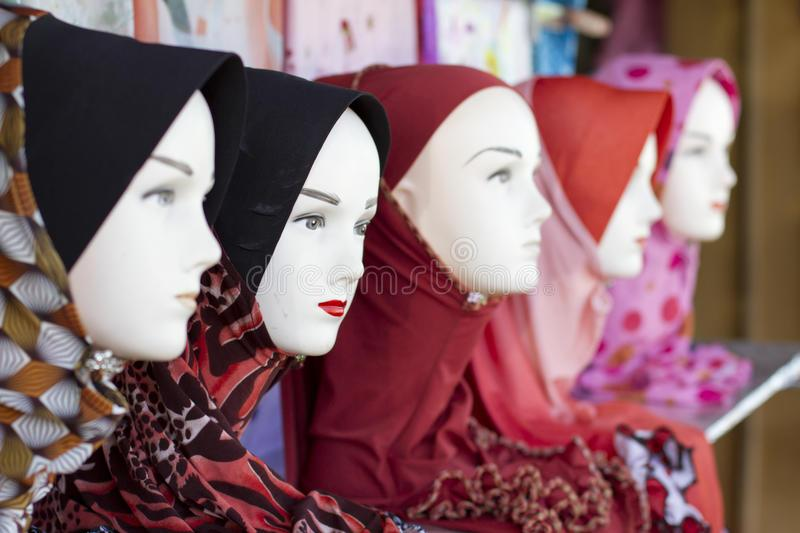No Mask: (355, 71, 574, 366), (244, 84, 393, 398), (560, 74, 668, 300), (661, 59, 745, 244)
Wore Mask Incorrectly: (4, 33, 214, 373)
